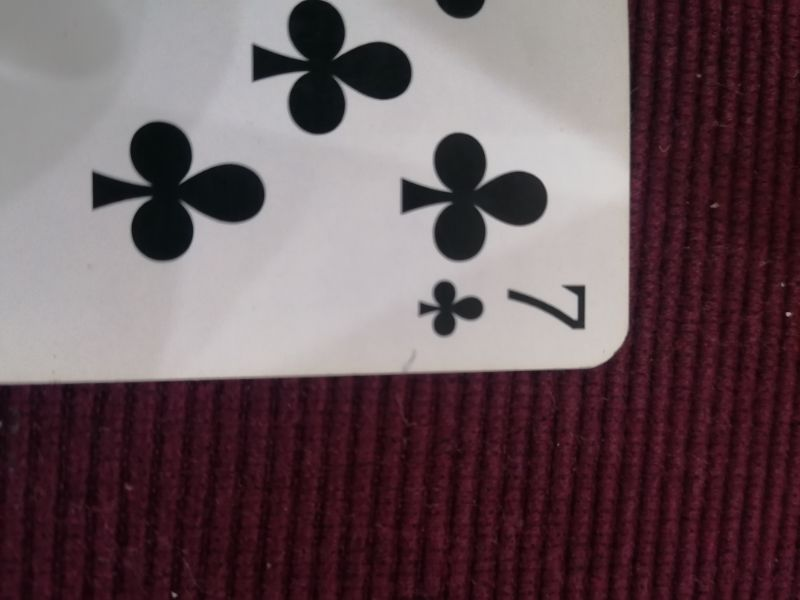7c: (415, 273, 593, 344)
